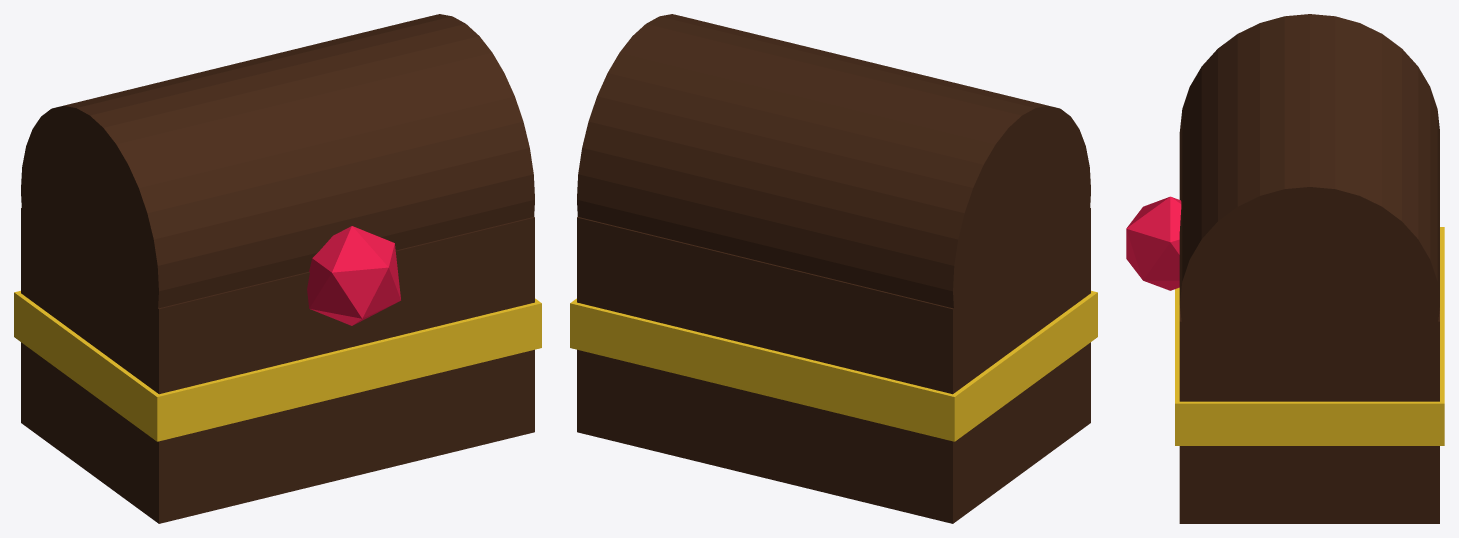
The model's file is Cofre_Recompensas_Lobby.obj.
3 views of the same model, side by side, from view 1: azimuth 30°, elevation 25°; view 2: azimuth 150°, elevation 25°; view 3: azimuth 270°, elevation 25° (orthographic). The views are drawn at different scales.
Parts seen in each view (by area): view 1: Chest_Lid, Chest_Body, Chest_GoldBands, Chest_GemLatch; view 2: Chest_Lid, Chest_Body, Chest_GoldBands; view 3: Chest_Lid, Chest_Body, Chest_GoldBands, Chest_GemLatch.
Boxes of the visible parts, bbox=[...] form: Chest_Lid: bbox=[21, 14, 534, 369]; Chest_Body: bbox=[21, 208, 534, 523]; Chest_GoldBands: bbox=[14, 290, 541, 441]; Chest_GemLatch: bbox=[307, 226, 400, 325]; Chest_Lid: bbox=[577, 14, 1090, 372]; Chest_Body: bbox=[577, 208, 1090, 523]; Chest_GoldBands: bbox=[570, 290, 1097, 441]; Chest_Lid: bbox=[1179, 14, 1439, 401]; Chest_Body: bbox=[1179, 305, 1439, 523]; Chest_GoldBands: bbox=[1175, 227, 1444, 445]; Chest_GemLatch: bbox=[1126, 196, 1181, 290].
Bounding box in the file's own units: 2.25 × 2 × 1.71.
